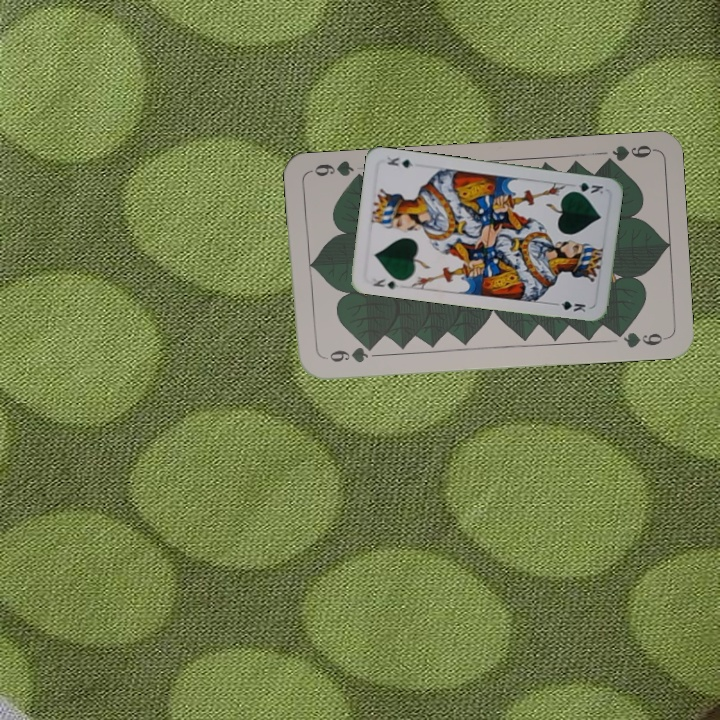G9: (598, 141, 656, 168), (319, 342, 378, 366)
GK: (566, 178, 606, 196), (369, 275, 401, 292)
